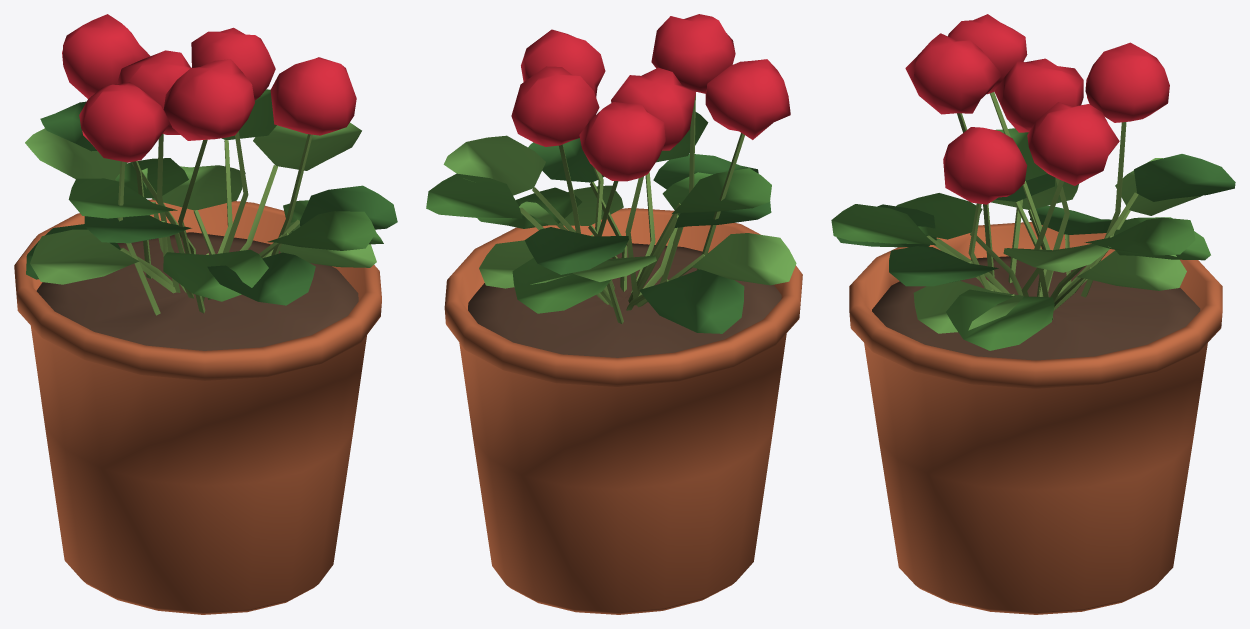
Rendered from geraniums.glb.
The picture shows the model from 3 angles, left to right: view 1: azimuth 30°, elevation 25°; view 2: azimuth 150°, elevation 25°; view 3: azimuth 270°, elevation 25°; orthographic projection. The views are drawn at different scales.
Visible parts, largest first — view 1: geraniums; view 2: geraniums; view 3: geraniums.
Part boxes in pixels (x1,y1,x2,y2): geraniums: (14, 14, 397, 614); geraniums: (426, 14, 802, 614); geraniums: (831, 14, 1235, 614).
Bounding box in the file's own units: 0.424 × 0.65 × 0.468.
